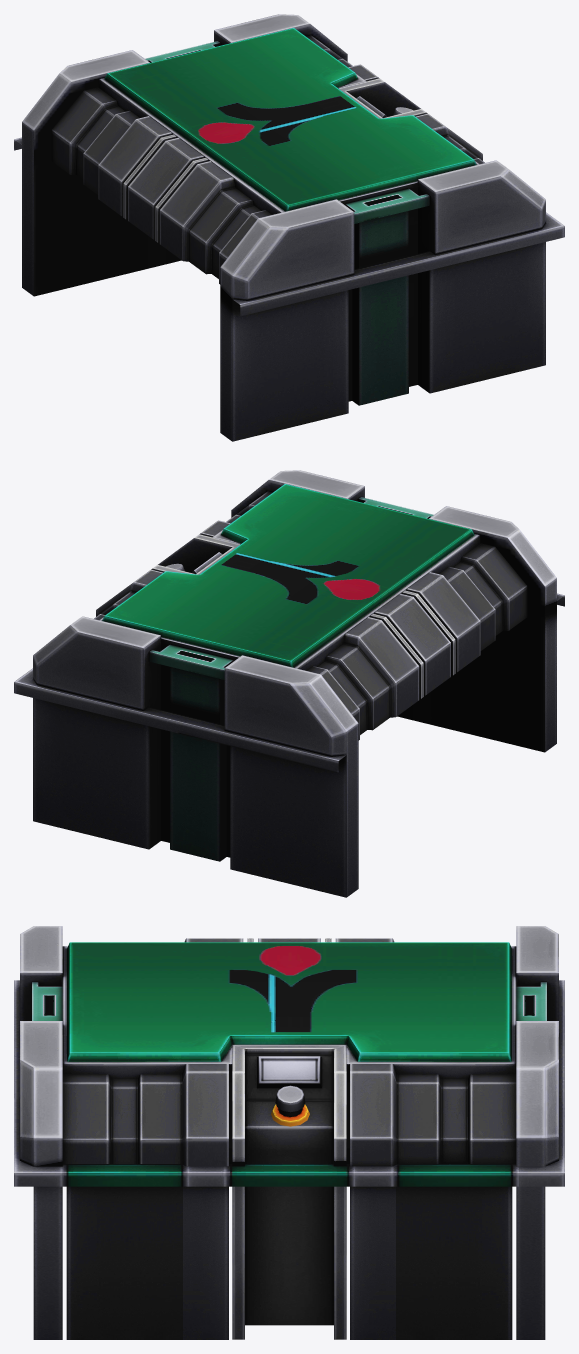
Rendered from trap_206_mufrbk.fbx.
3 views of the same model, one above another, from view 1: azimuth 30°, elevation 25°; view 2: azimuth 150°, elevation 25°; view 3: azimuth 270°, elevation 25° (orthographic). The views are drawn at different scales.
Parts seen in each view (by area): view 1: trap_206_mufrbk; view 2: trap_206_mufrbk; view 3: trap_206_mufrbk.
Part boxes in pixels (box(x1,y1,x2,y2)): trap_206_mufrbk: box(14, 14, 564, 441); trap_206_mufrbk: box(14, 470, 564, 897); trap_206_mufrbk: box(14, 926, 564, 1339).
Bounding box in the file's own units: 0.5857 × 0.3589 × 0.708.
1 material, 1 textured.
